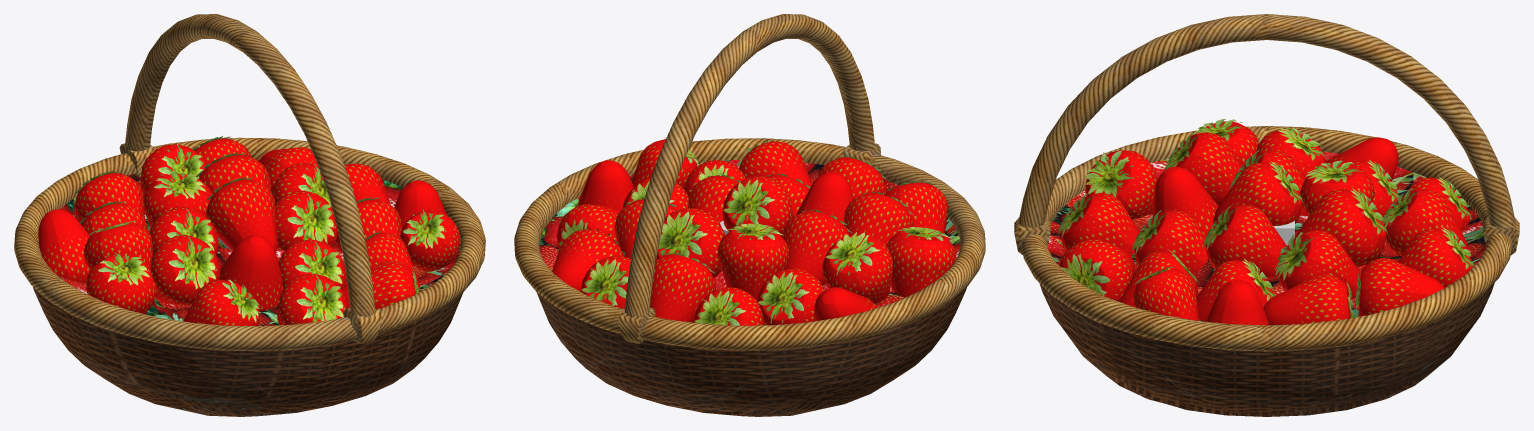
Rendered from scenestrw.dae.
The picture shows the model from 3 angles, left to right: view 1: azimuth 30°, elevation 25°; view 2: azimuth 150°, elevation 25°; view 3: azimuth 270°, elevation 25°; orthographic projection. The views are drawn at different scales.
Visible parts, largest first — view 1: Mesh_2, Mesh_4, Mesh_0, Mesh_3, Mesh_1; view 2: Mesh_2, Mesh_4, Mesh_0, Mesh_3, Mesh_1; view 3: Mesh_2, Mesh_4, Mesh_0, Mesh_3, Mesh_1.
Part boxes in pixels (x1,y1,x2,y2): Mesh_2: (38,138,460,325); Mesh_4: (14,14,485,351); Mesh_0: (33,287,462,416); Mesh_3: (75,136,446,322); Mesh_1: (58,159,460,326); Mesh_2: (552,139,955,325); Mesh_4: (514,14,985,350); Mesh_0: (536,287,966,416); Mesh_3: (557,137,951,325); Mesh_1: (539,160,960,325); Mesh_2: (1059,121,1473,325); Mesh_4: (1014,14,1519,351); Mesh_0: (1039,158,1494,416); Mesh_3: (1057,119,1474,318); Mesh_1: (1048,152,1485,321).
Size of the model in its own units: 17.73 by 18.16 by 13.85.
Materials: 8 (5 with a texture image).
